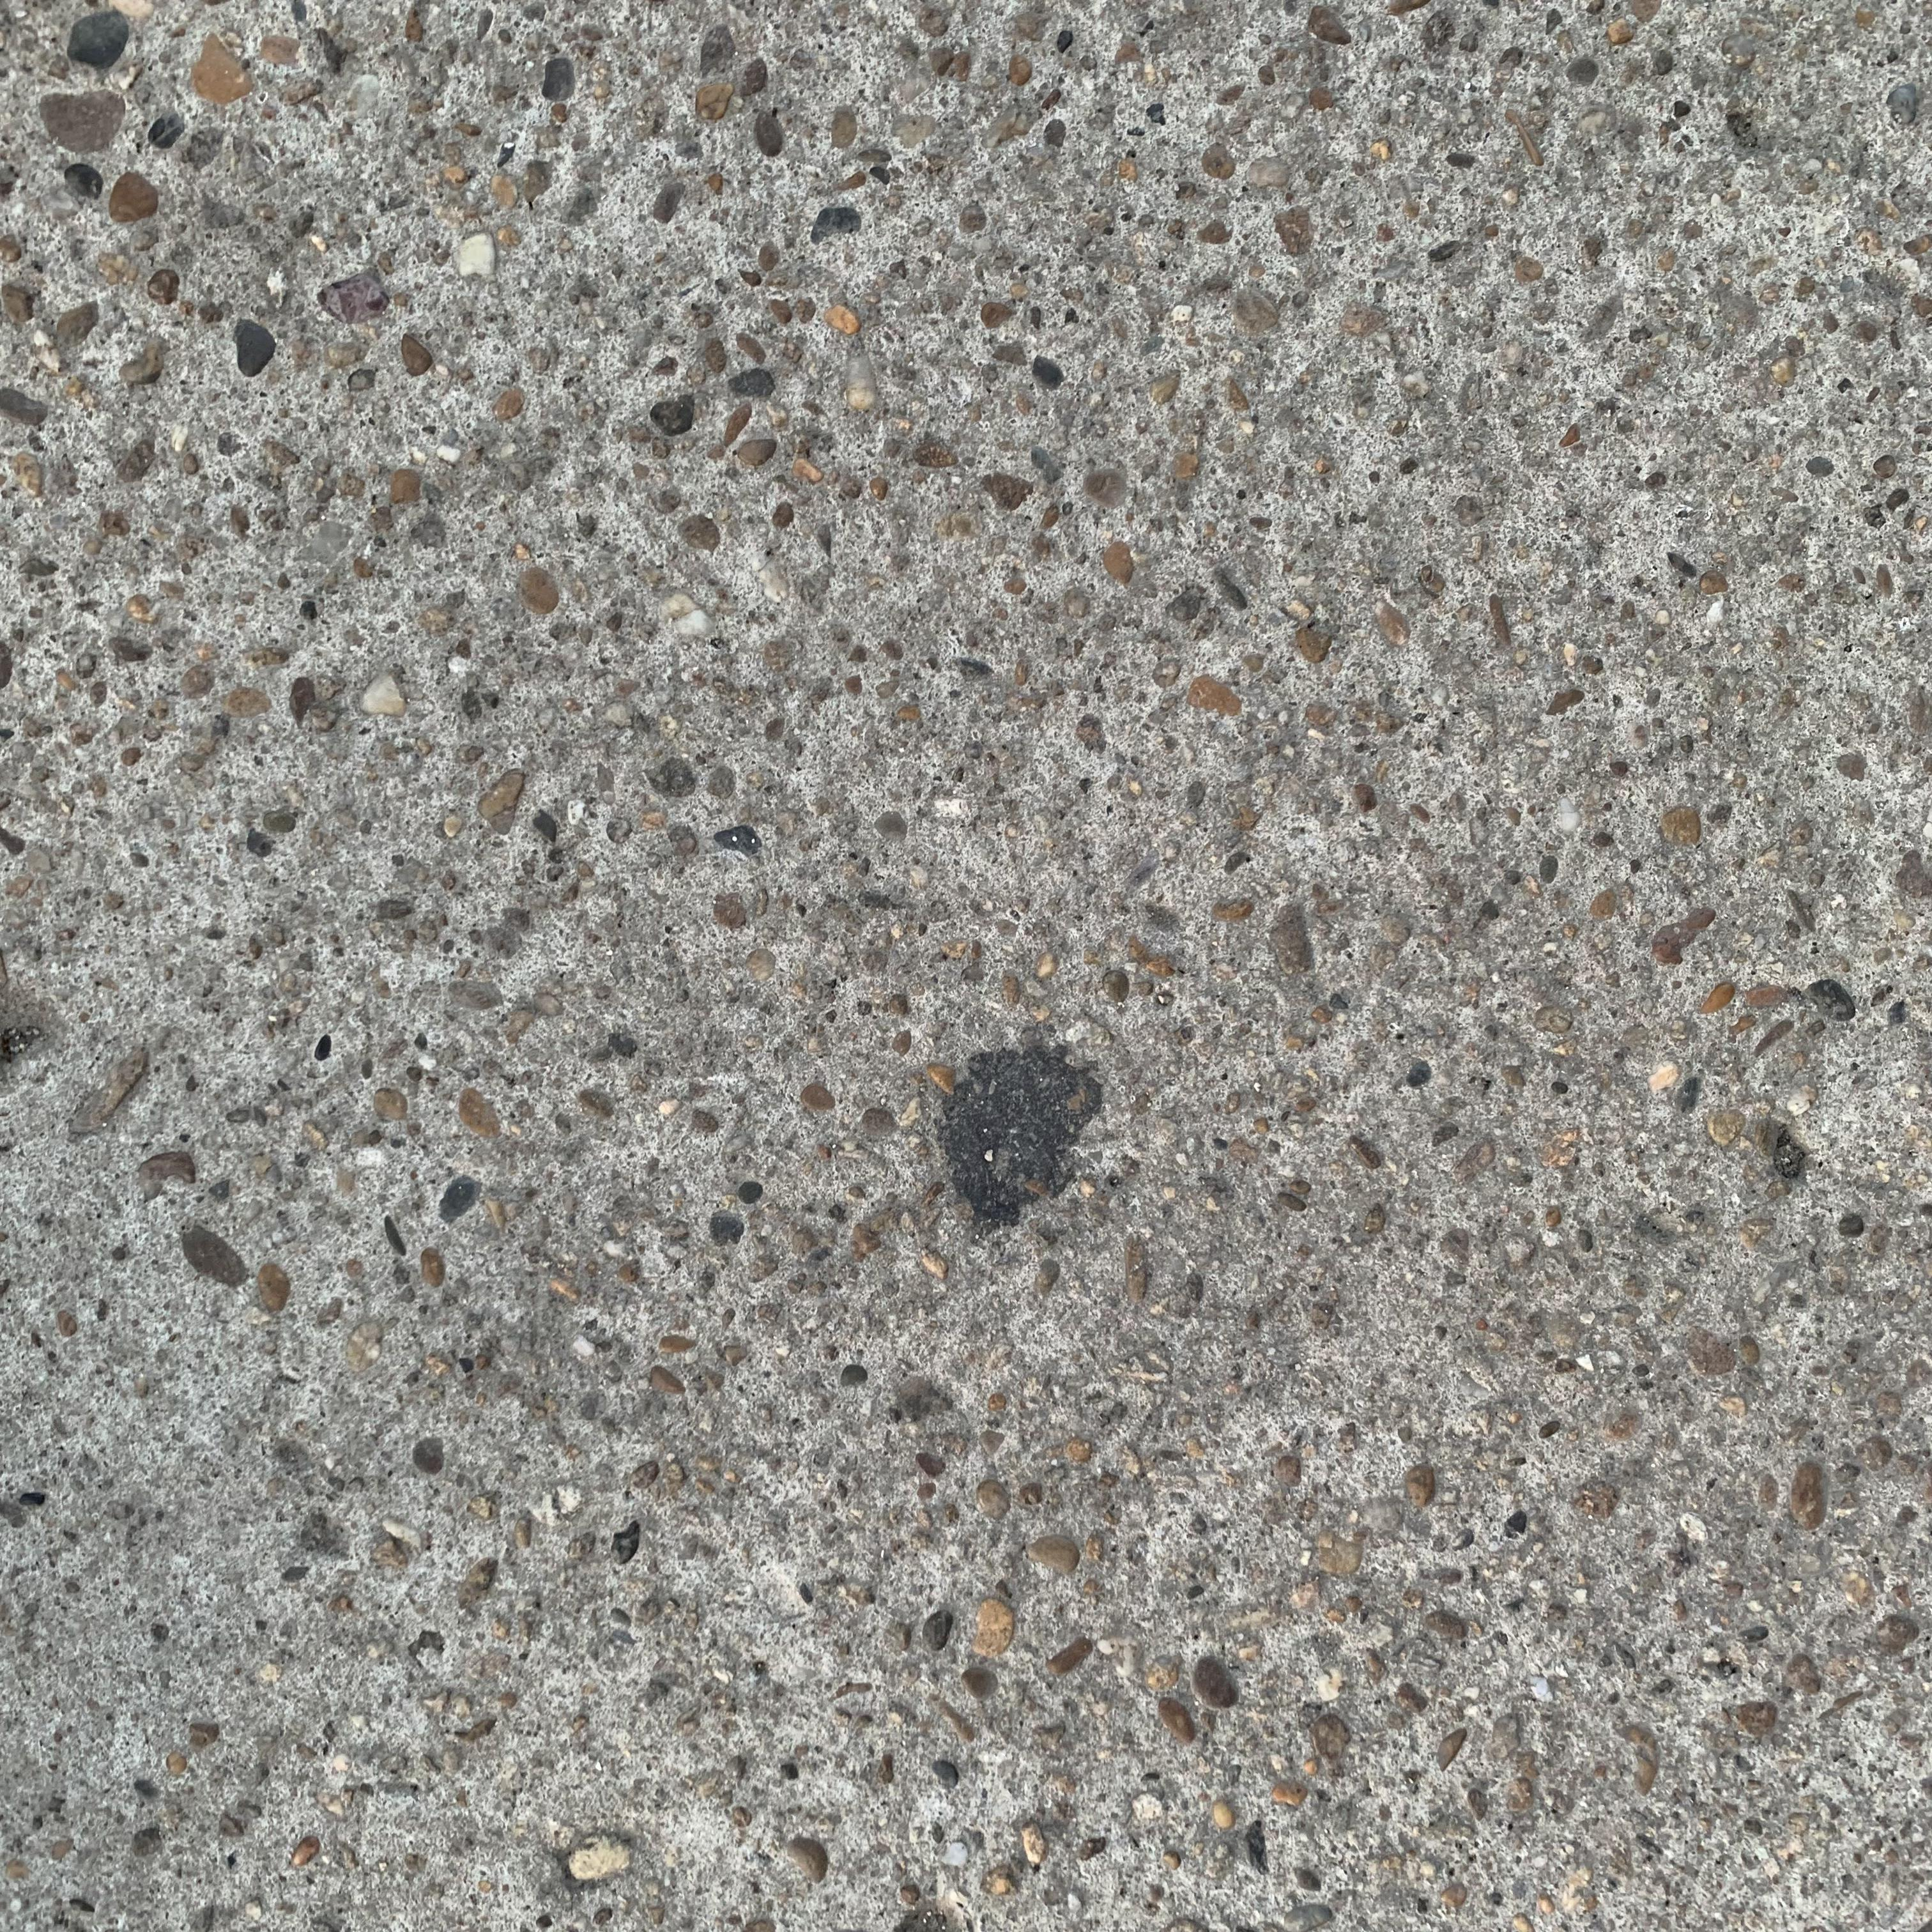grey spot: (943, 1047, 1099, 1230)
